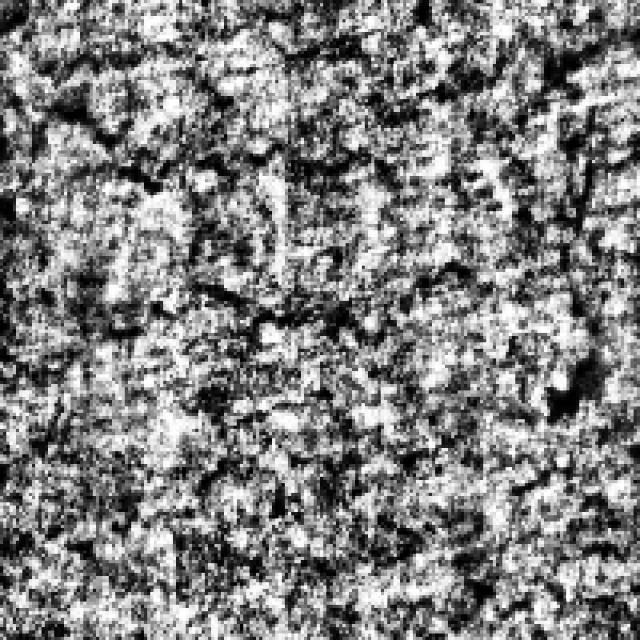Pitted_Surface: (0, 61, 464, 327), (493, 16, 624, 422)
